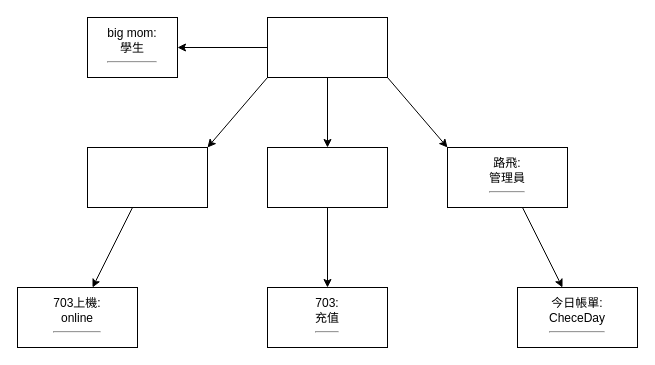
The diagram is 655 pixels wide and 365 high, and some of its shapes have lost their labels. The shapes that lost their labels are listed below. From the top down, each one's centre as x and y in pixels, then its label:
At point 327,47: "703:card no".
At point 147,177: "喬八: 一般用戶".
At point 327,177: "索隆: 操作員".
